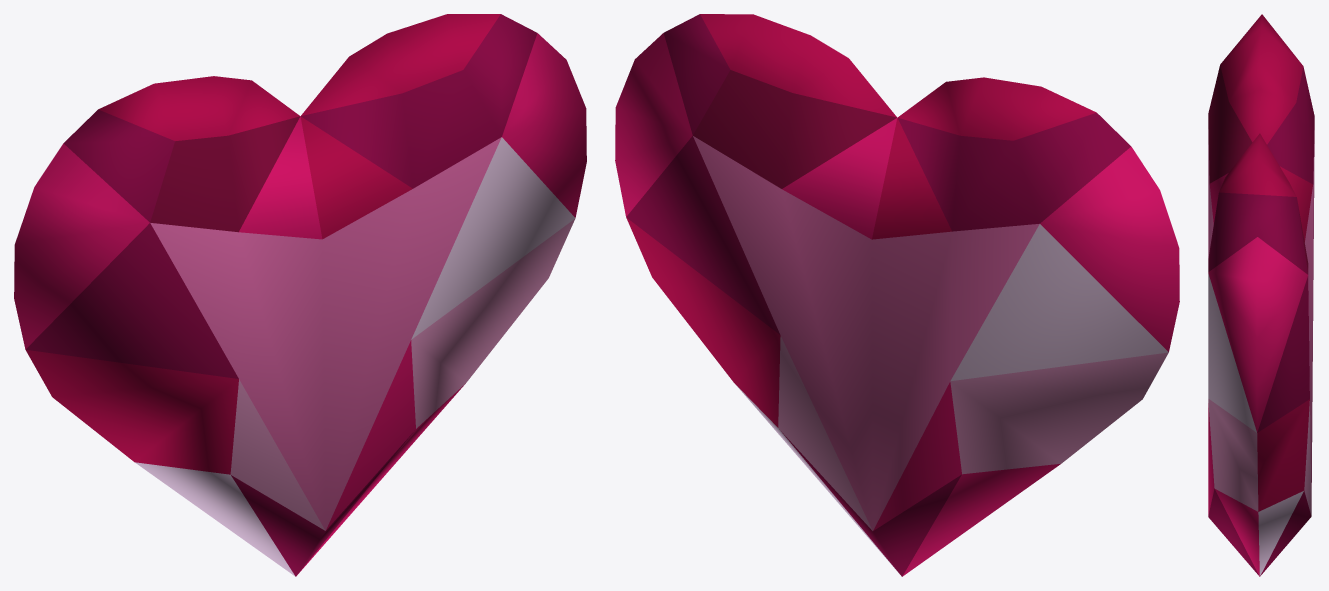
Rendered from Heart Diamond.fbx.
The picture shows the model from 3 angles, left to right: view 1: azimuth 30°, elevation 25°; view 2: azimuth 150°, elevation 25°; view 3: azimuth 270°, elevation 25°; orthographic projection. The views are drawn at different scales.
Parts seen in each view (by area): view 1: mesh_id4.000_mesh_id4.002; view 2: mesh_id4.000_mesh_id4.002; view 3: mesh_id4.000_mesh_id4.002.
Part boxes in pixels (box(x1,y1,x2,y2)): mesh_id4.000_mesh_id4.002: box(14, 14, 586, 576); mesh_id4.000_mesh_id4.002: box(615, 14, 1179, 576); mesh_id4.000_mesh_id4.002: box(1208, 14, 1314, 576).
Bounding box in the file's own units: 376 × 332 × 66.09.
